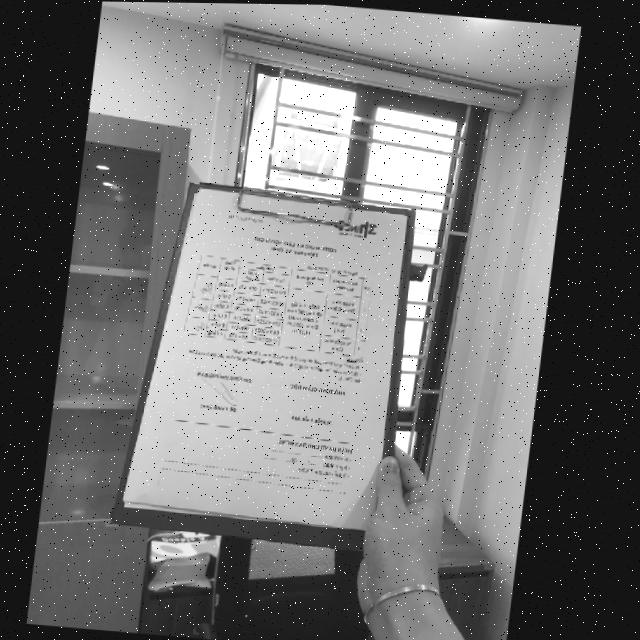document: (121, 190, 406, 532)
